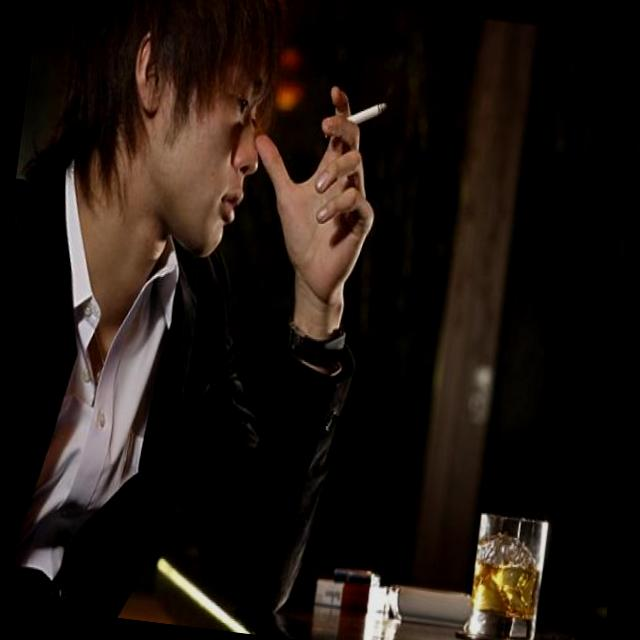smoke: (318, 92, 388, 140)
